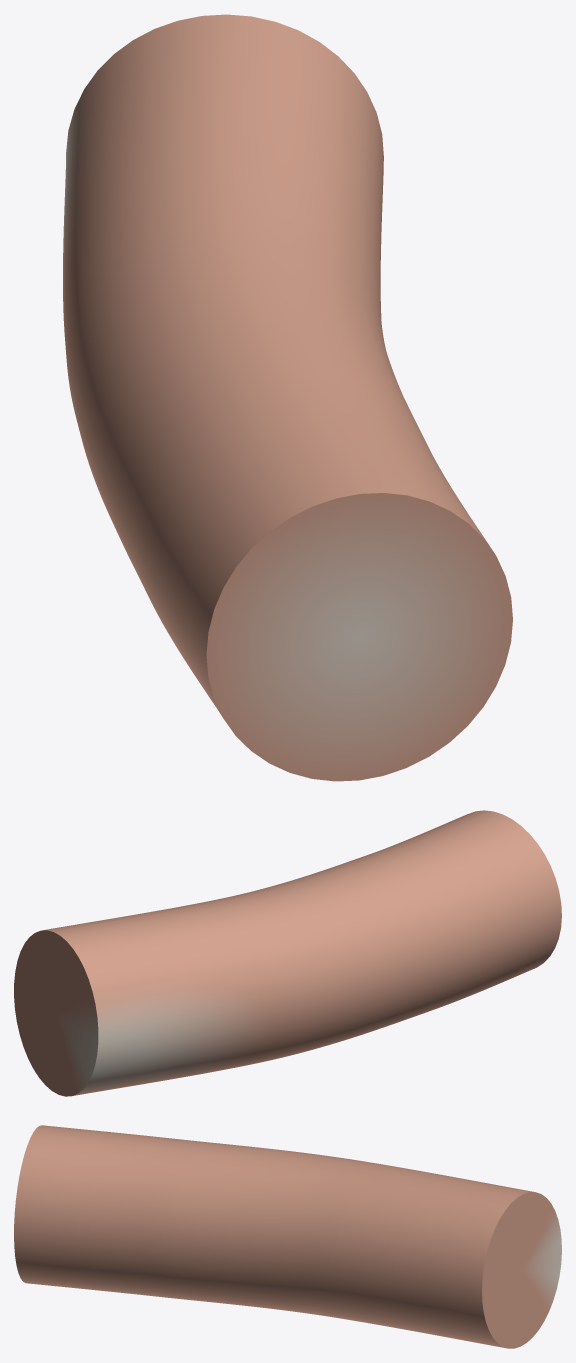
The model's file is optic-nerve.glb.
The picture shows the model from 3 angles, top to bottom: view 1: azimuth 30°, elevation 25°; view 2: azimuth 150°, elevation 25°; view 3: azimuth 270°, elevation 25°; orthographic projection. The views are drawn at different scales.
Parts seen in each view (by area): view 1: optic-nerve; view 2: optic-nerve; view 3: optic-nerve.
Part boxes in pixels (x1,y1,x2,y2): optic-nerve: (63,14,512,781); optic-nerve: (14,810,561,1096); optic-nerve: (14,1125,561,1348).
Size of the model in its own units: 0.3346 by 0.1732 by 0.5249.
